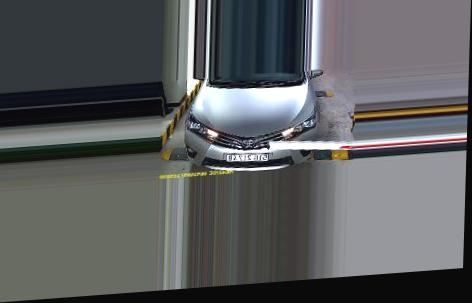License_Plate: (225, 149, 271, 163)
